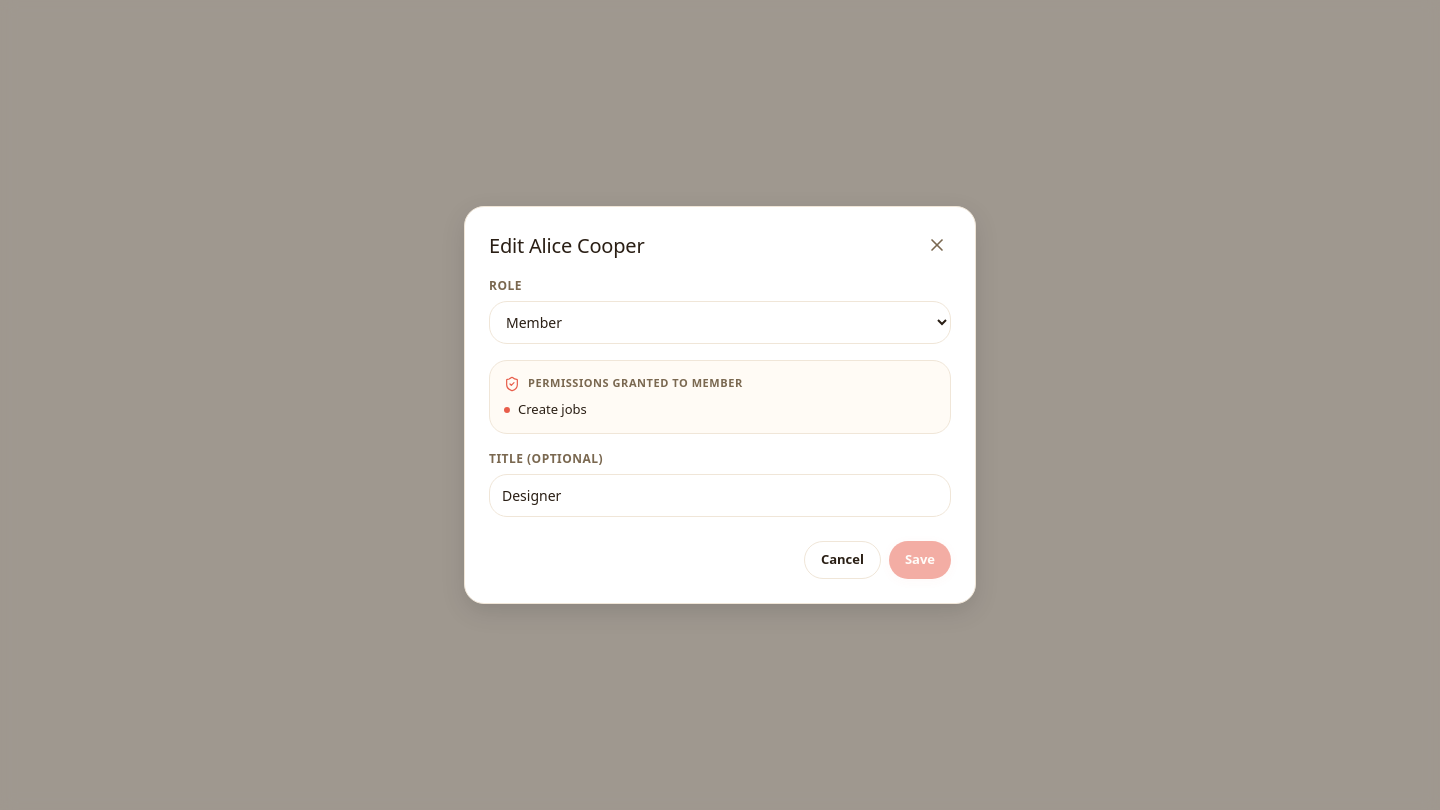
Test: EditMemberModal › refreshes the preview when the user picks a different role
Expected: the list item "Create jobs" is shown, top-left (504, 400), bottom-right (587, 418)
Select "Admin" in the dropdown labelled "Role" at (720, 323), box top-left (489, 301), bottom-right (951, 344)
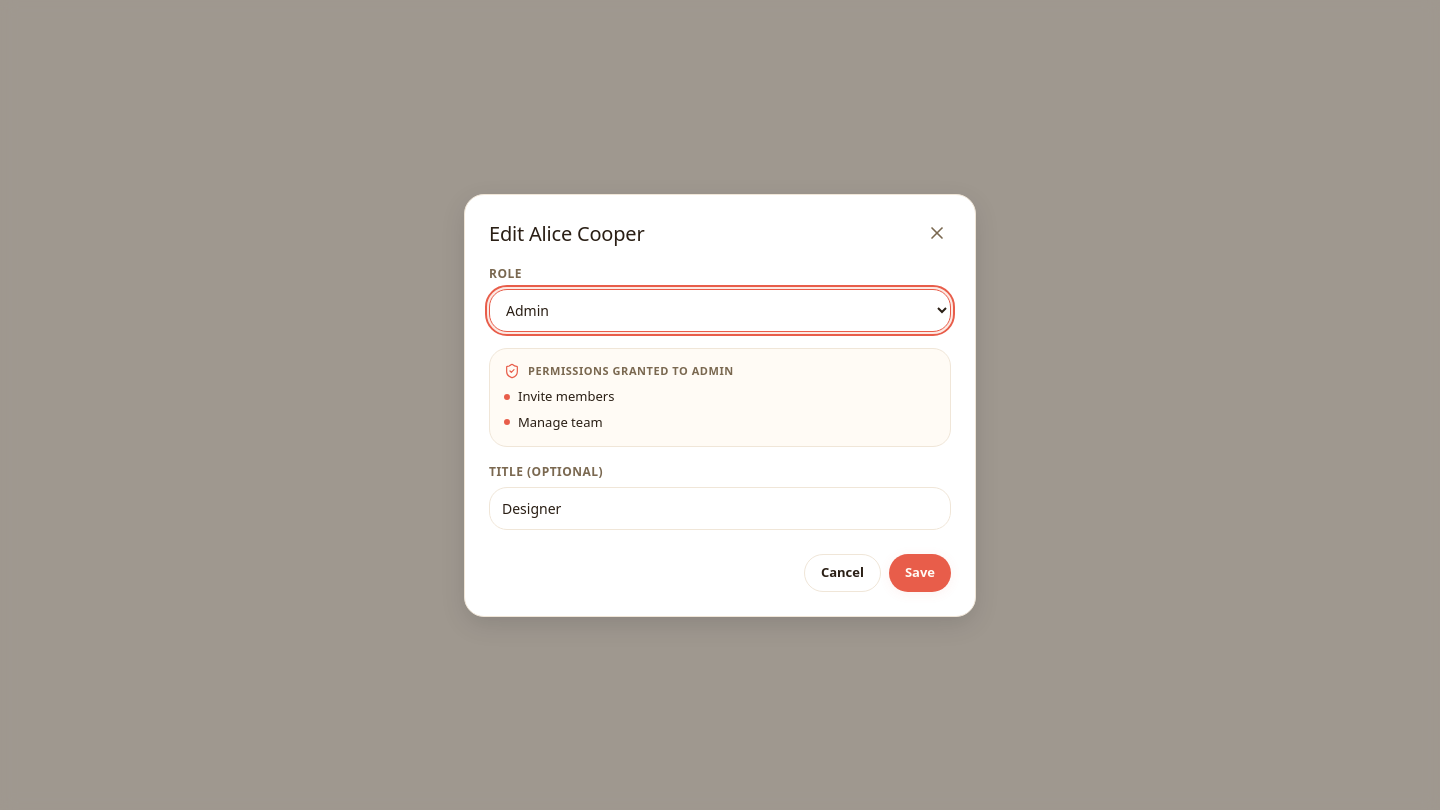
Result: the list item "Manage team" is shown at top-left (504, 412), bottom-right (603, 430)
Result: the list item "Invite members" is shown at top-left (504, 387), bottom-right (614, 405)
